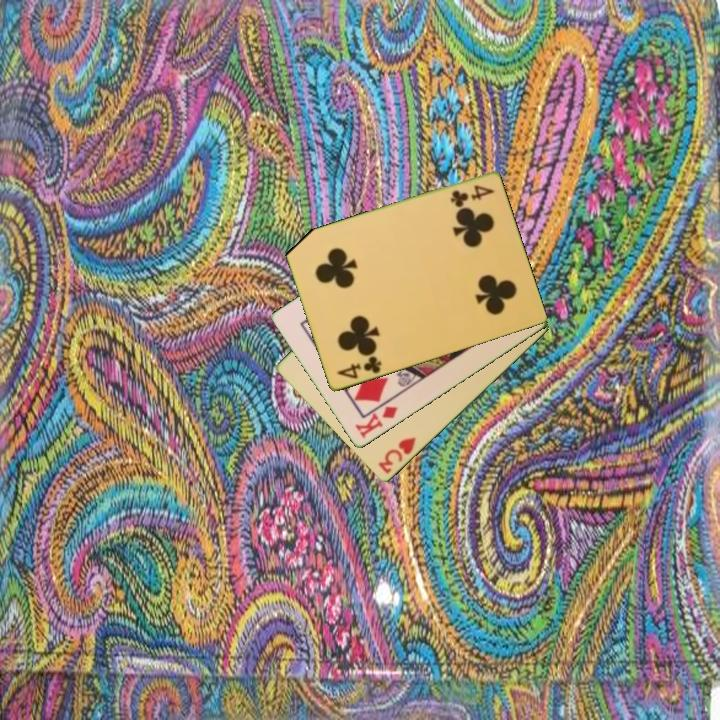3h: (375, 434, 419, 477)
4c: (333, 352, 384, 382), (447, 182, 497, 209)
Kd: (351, 403, 401, 442)
